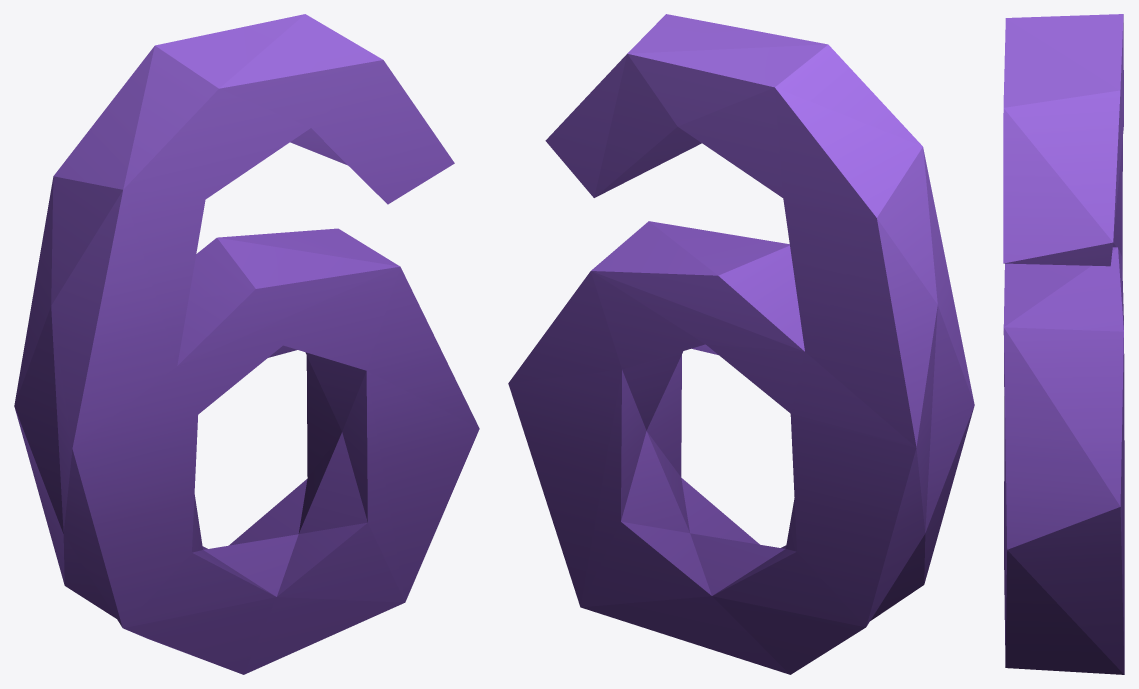
The picture shows the model from 3 angles, left to right: view 1: azimuth 30°, elevation 25°; view 2: azimuth 150°, elevation 25°; view 3: azimuth 270°, elevation 25°; orthographic projection.
Visible parts, largest first — view 1: Six; view 2: Six; view 3: Six.
Part boxes in pixels (x1,y1,x2,y2): Six: [14, 14, 479, 674]; Six: [508, 14, 974, 674]; Six: [1003, 14, 1124, 674].
Size of the model in its own units: 0.3584 by 0.4994 by 0.0922.
